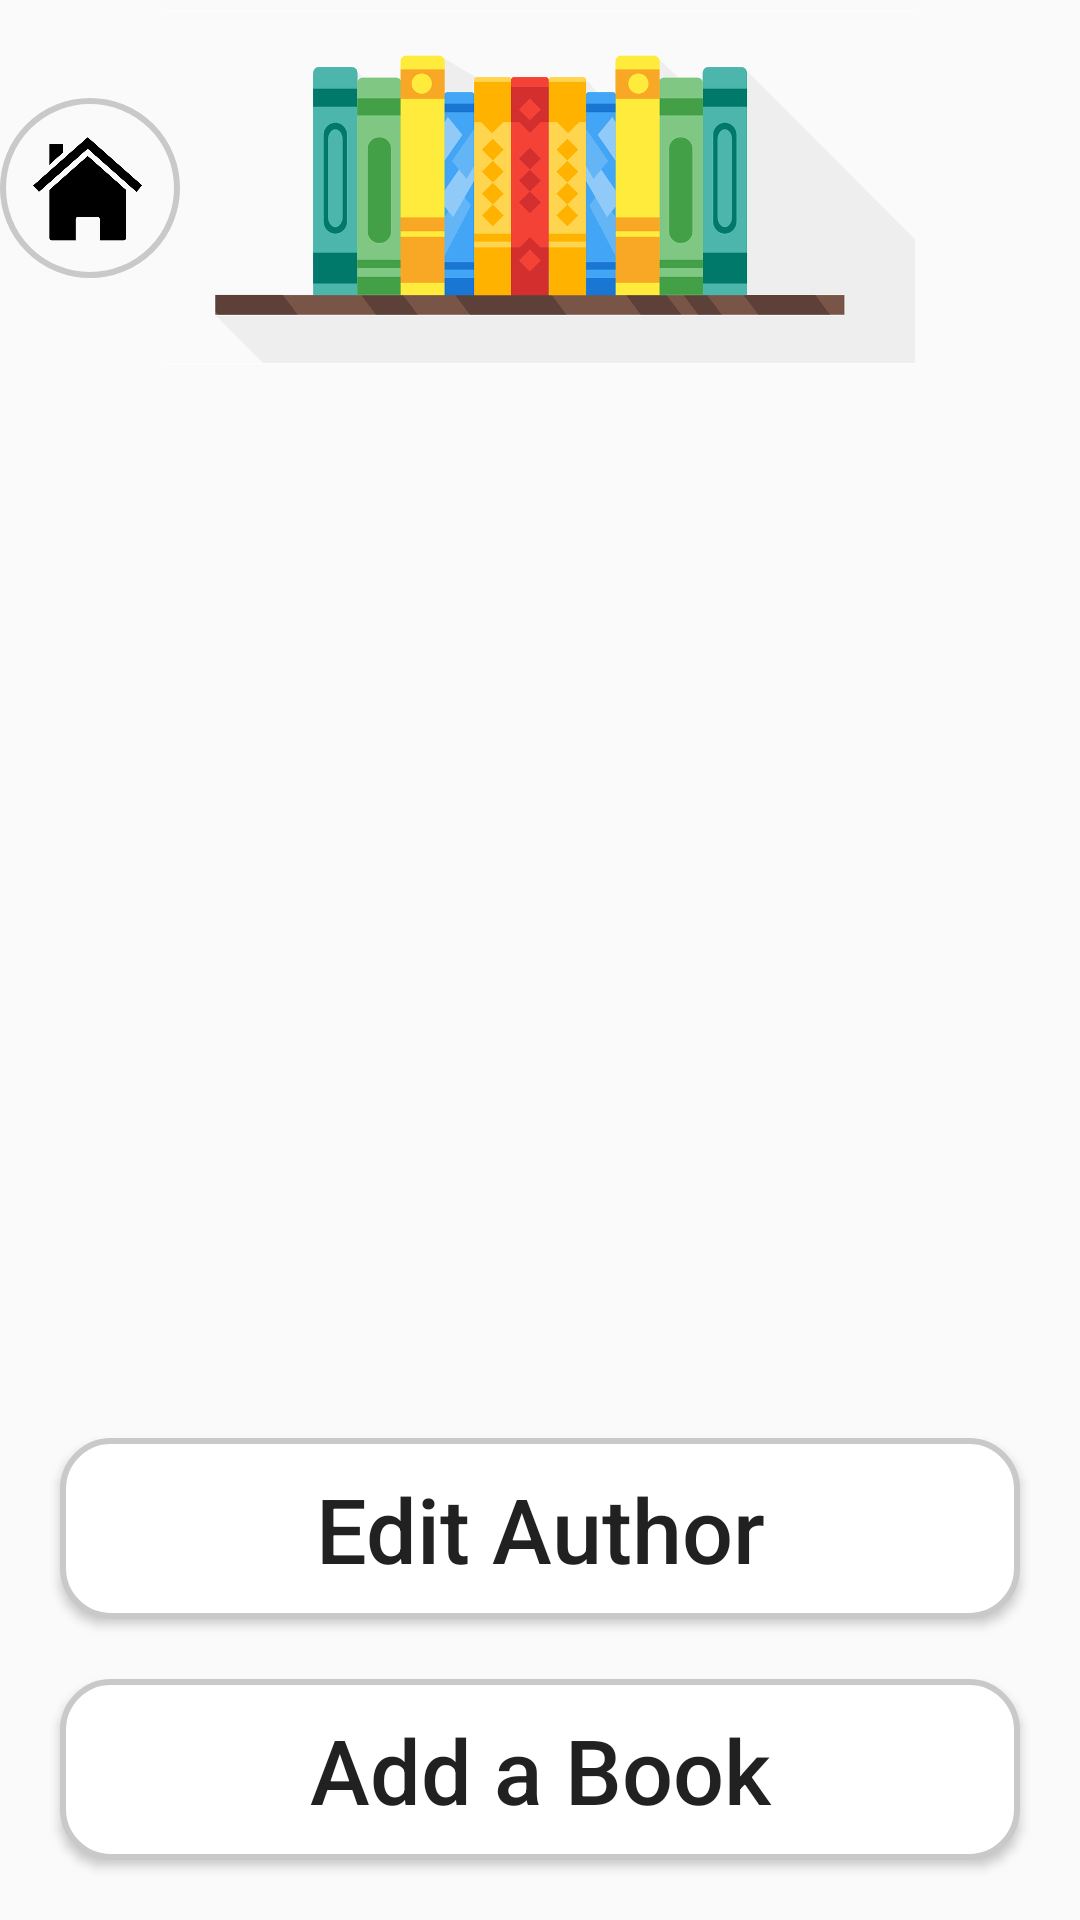

Icons on this 1080×1920 Android screen, each with its box as (x1, y1, x2, y2):
home: (0, 98, 180, 278)
